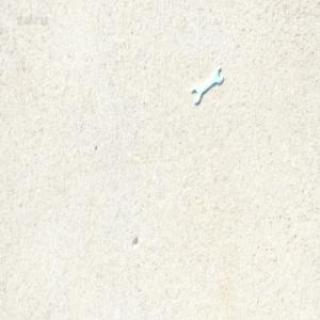Wrenchtrack_idkeyframe: (192, 67, 223, 104)
